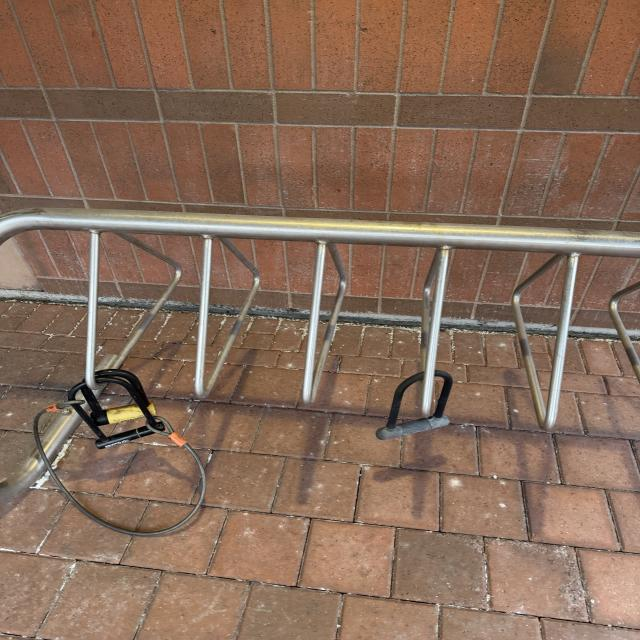Bicycle Rack: (0, 212, 640, 458)
